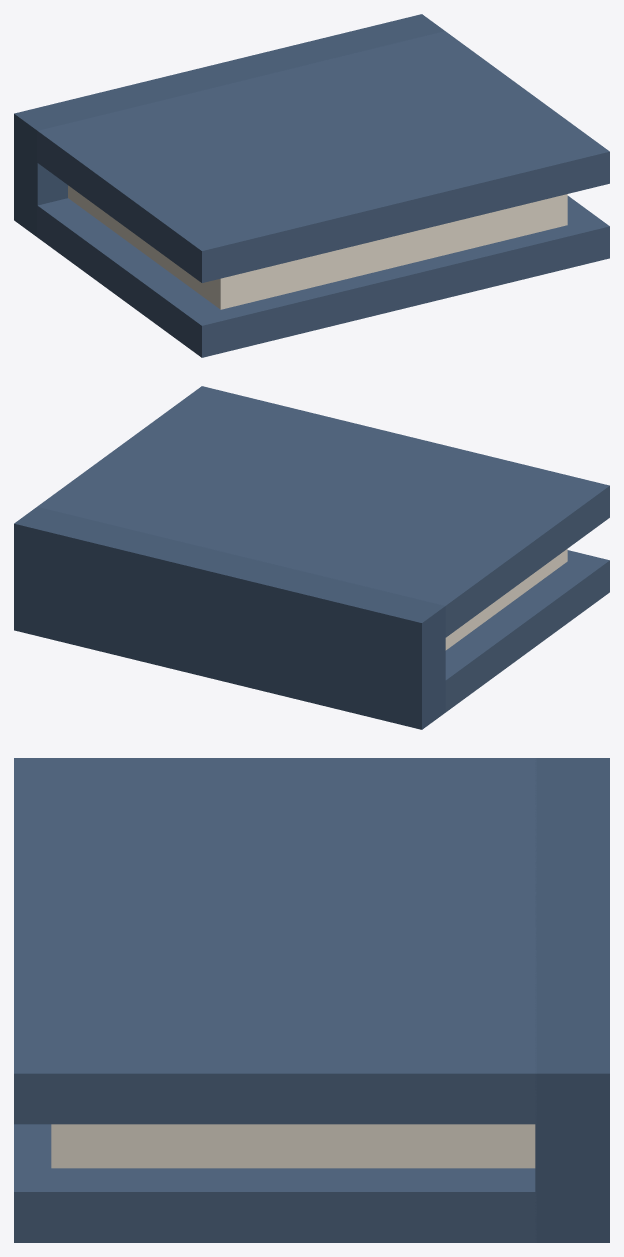
Rendered from book.gltf.
The picture shows the model from 3 angles, top to bottom: view 1: azimuth 30°, elevation 25°; view 2: azimuth 150°, elevation 25°; view 3: azimuth 270°, elevation 25°; orthographic projection. The views are drawn at different scales.
Parts seen in each view (by area): view 1: topcover, bottomcover, spine, page4, page2, page3; view 2: topcover, spine, bottomcover, page4; view 3: topcover, bottomcover, spine, page2, page4, page3.
Part boxes in pixels (x1,y1,x2,y2): topcover: (37,31,609,282); bottomcover: (37,196,609,357); spine: (14,14,444,236); page4: (68,187,567,309); page2: (68,185,567,298); page3: (211,194,567,288); topcover: (37,386,609,637); spine: (14,507,445,729); bottomcover: (445,550,609,712); page4: (445,551,567,650); topcover: (14,758,536,1124); bottomcover: (14,1124,536,1242); spine: (535,758,609,1242); page2: (51,1134,535,1151); page4: (51,1151,535,1168); page3: (51,1124,535,1134).
Bounding box in the file's own units: 0.625 × 0.1563 × 0.4988.
1 material, 1 textured.
